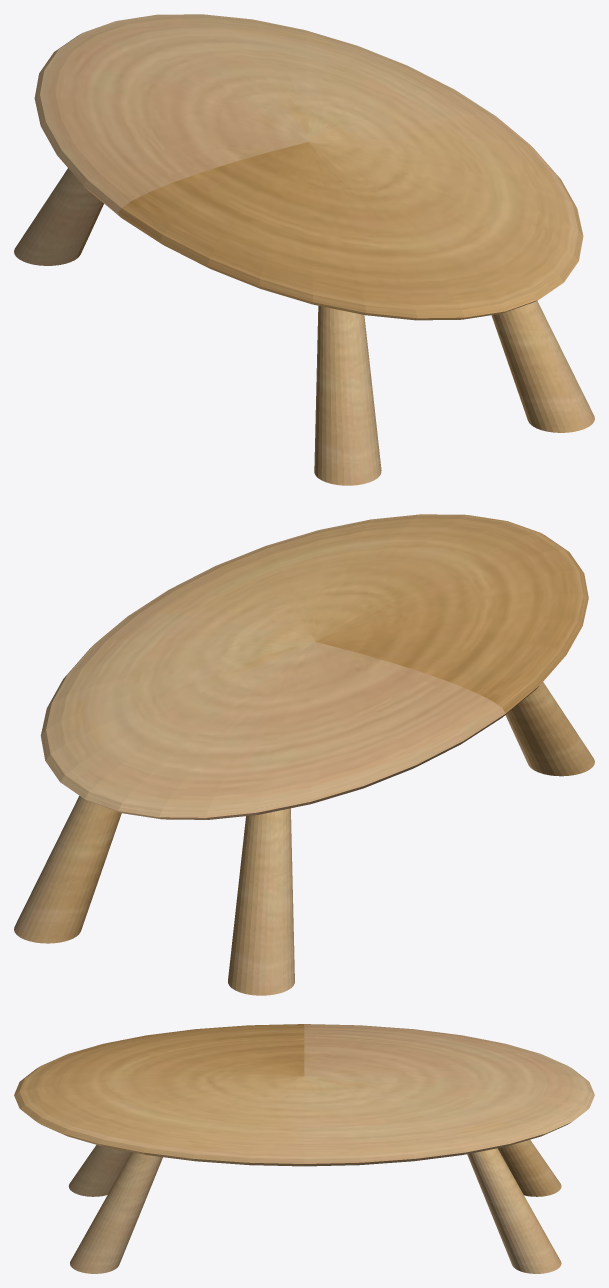
File: tableSMALL.gltf
3 renders of one model, top to bottom at view 1: azimuth 30°, elevation 25°; view 2: azimuth 150°, elevation 25°; view 3: azimuth 270°, elevation 25°, orthographic. The views are drawn at different scales.
Parts seen in each view (by area): view 1: Cylinder.001; view 2: Cylinder.001; view 3: Cylinder.001.
Part boxes in pixels (x1,y1,x2,y2): Cylinder.001: [14, 14, 594, 485]; Cylinder.001: [14, 514, 594, 995]; Cylinder.001: [14, 1024, 594, 1273].
Size of the model in its own units: 2.84 by 1.42 by 5.07.
